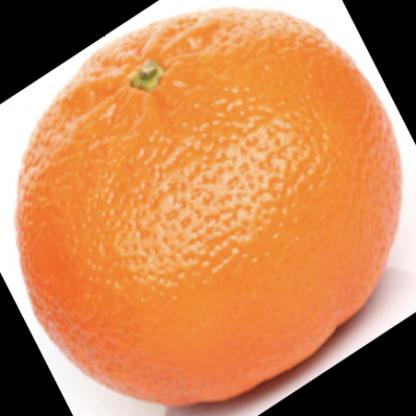orange: (15, 3, 405, 409)
